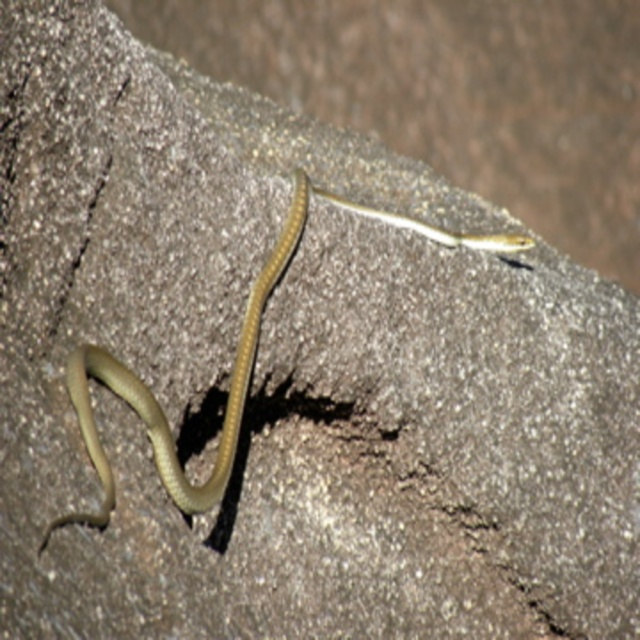Snake: (37, 164, 535, 552)
